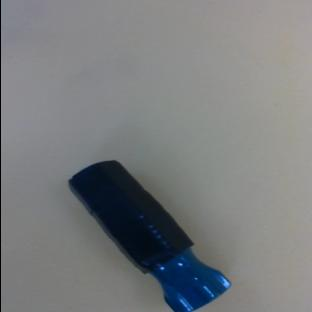part_2_bad: (62, 145, 232, 312)
